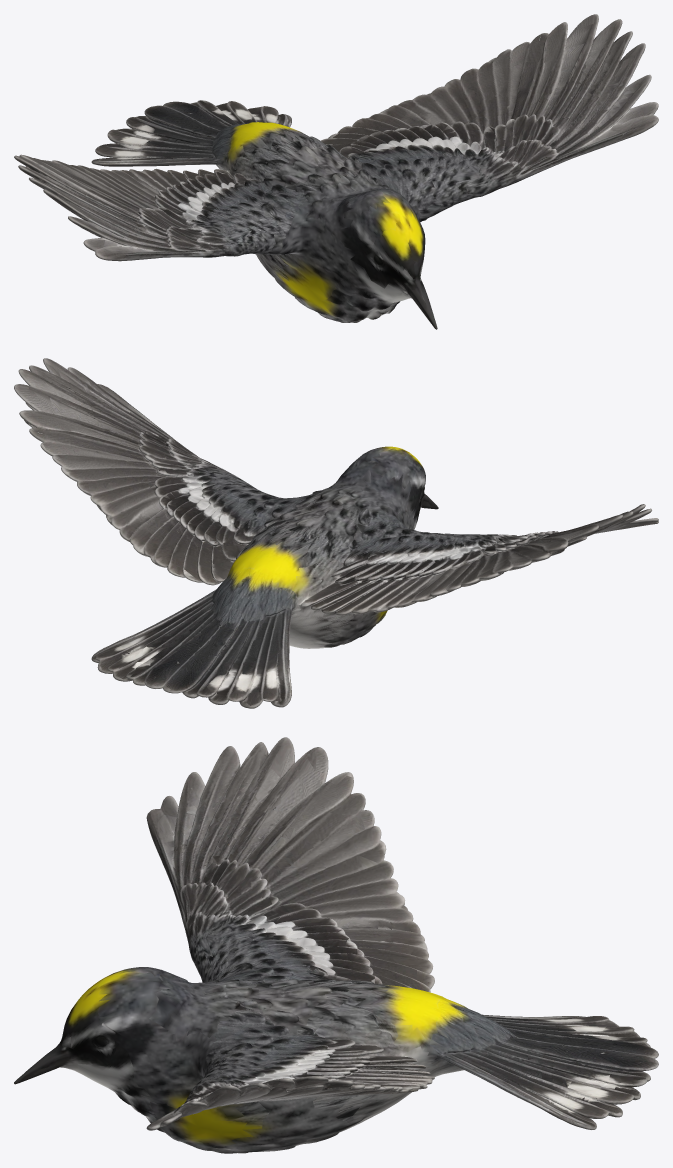
Rendered from Setophaga_coronata.glb.
3 renders of one model, top to bottom at view 1: azimuth 30°, elevation 25°; view 2: azimuth 150°, elevation 25°; view 3: azimuth 270°, elevation 25°, orthographic. The views are drawn at different scales.
Parts seen in each view (by area): view 1: orient; view 2: orient; view 3: orient.
Part boxes in pixels (x1,y1,x2,y2): orient: (14,14,658,329); orient: (14,358,658,708); orient: (14,737,658,1153).
Size of the model in its own units: 0.5 by 0.1615 by 0.3982.
Materials: 1 (1 with a texture image).
